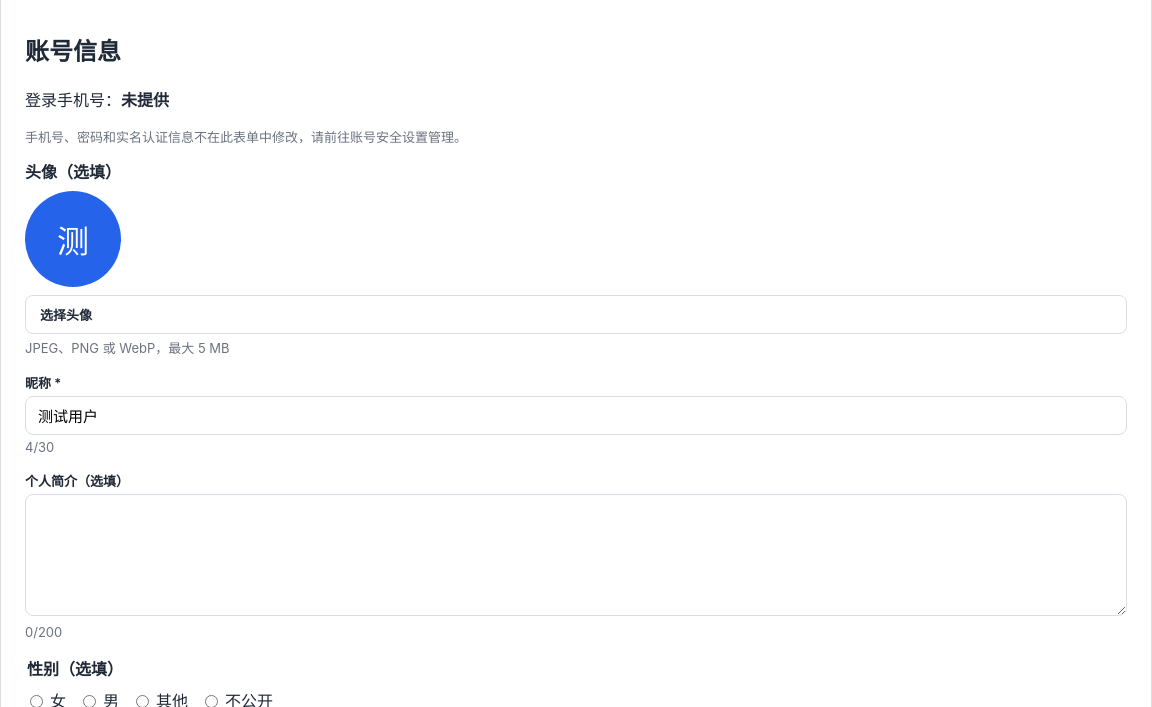
Scenario: ProfileForm resilience › retains the draft after a server failure and succeeds when retried
This screenshot has width=1152, height=707.
Replace the text in the field labelled "昵称 *" with "失败后保留": x=576, y=415 [25,396,1127,435]
(page scrolled)
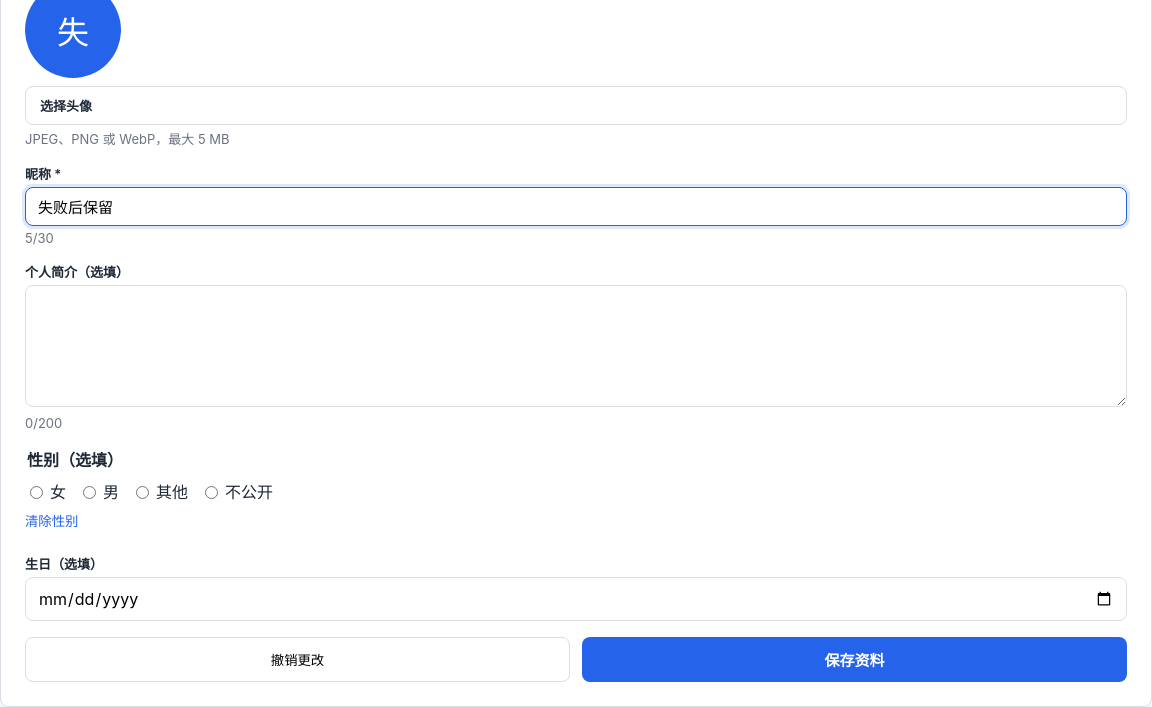
Click the button "保存资料": x=854, y=659 [582,637,1127,682]
(page scrolled)
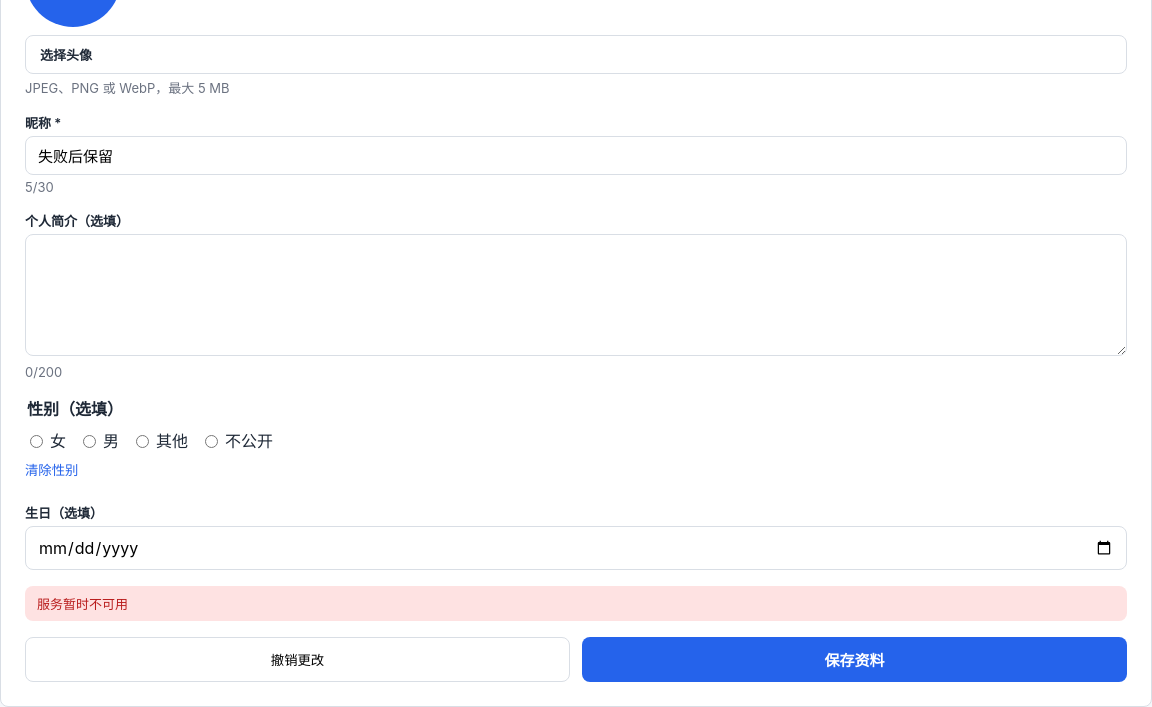
Check: the message reads "服务暂时不可用", box [37,596,128,612]
Click the button "保存资料": x=854, y=659 [582,637,1127,682]
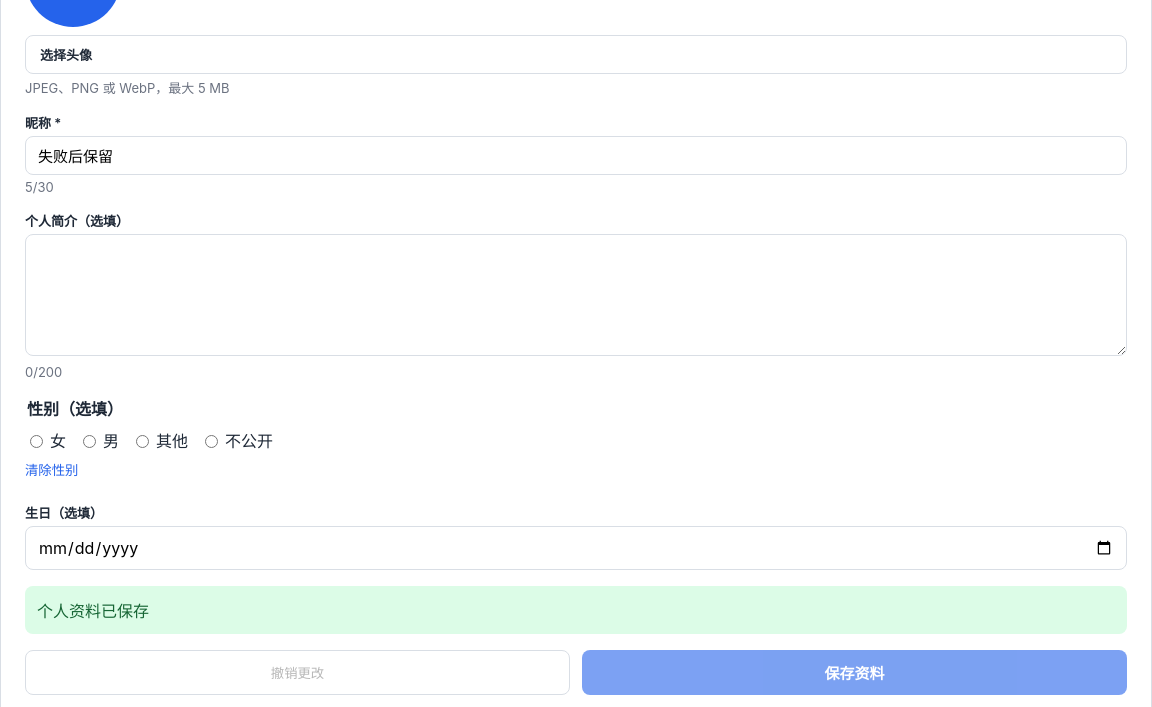
Check: the message reads "个人资料已保存", box [37,601,149,621]
